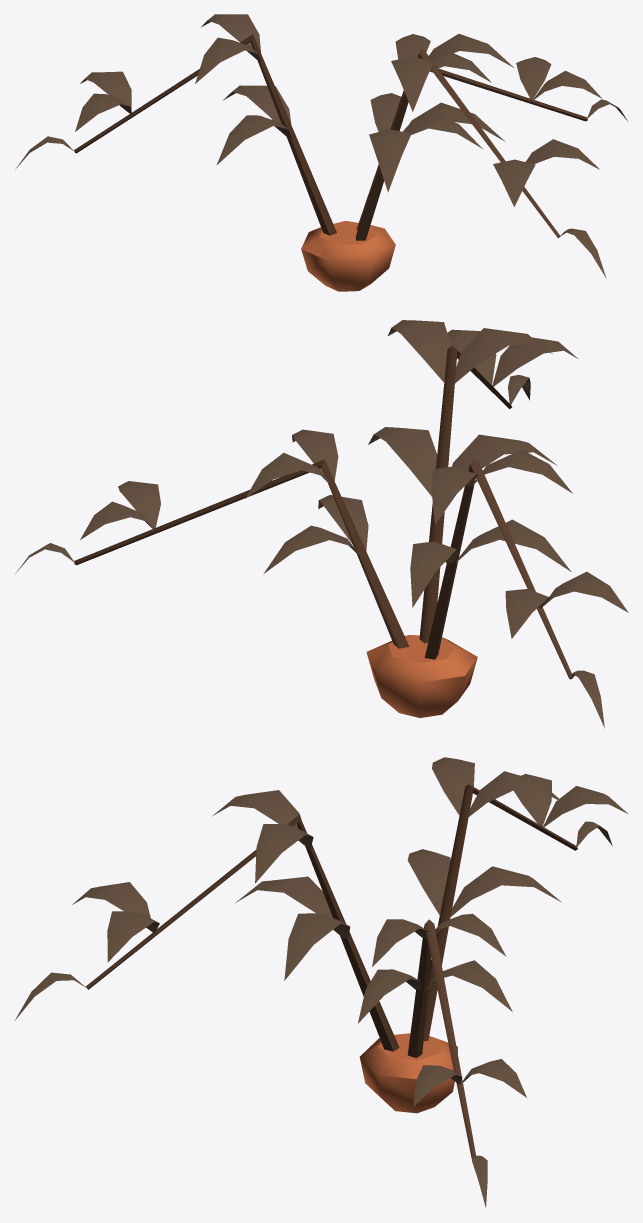
The model's file is crop_carrot_withered.glb.
The picture shows the model from 3 angles, top to bottom: view 1: azimuth 30°, elevation 25°; view 2: azimuth 150°, elevation 25°; view 3: azimuth 270°, elevation 25°; orthographic projection. The views are drawn at different scales.
Visible parts, largest first — view 1: carrot_frond_0_p_0_1, carrot_frond_0_rachis, carrot_root; view 2: carrot_frond_0_p_0_1, carrot_frond_0_rachis, carrot_root; view 3: carrot_frond_0_p_0_1, carrot_frond_0_rachis, carrot_root.
Boxes of the visible parts, x1,y1,x2,y2 form: carrot_frond_0_p_0_1: (15, 14, 627, 278); carrot_frond_0_rachis: (74, 34, 587, 240); carrot_root: (301, 221, 395, 291); carrot_frond_0_p_0_1: (15, 320, 628, 728); carrot_frond_0_rachis: (74, 346, 573, 679); carrot_root: (366, 635, 477, 717); carrot_frond_0_p_0_1: (14, 757, 627, 1207); carrot_frond_0_rachis: (85, 784, 577, 1157); carrot_root: (359, 1033, 457, 1113).
Size of the model in its own units: 0.5853 by 0.2726 by 0.4925.
